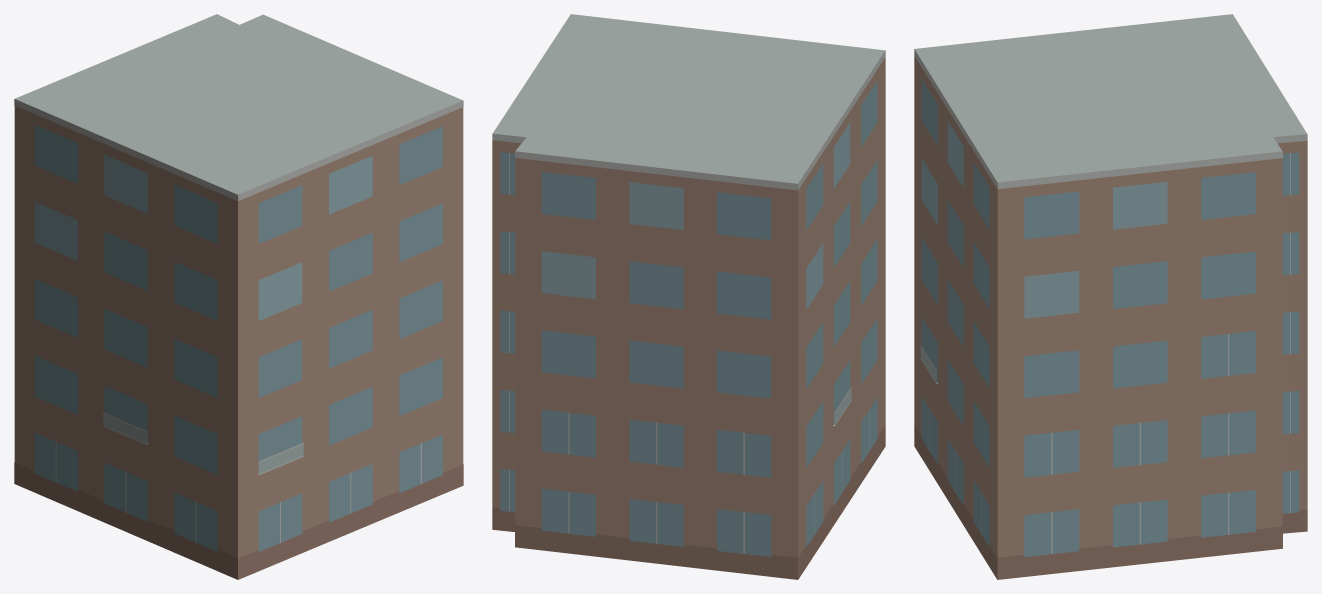
Rendered from survey-upis-32693623.glb.
3 renders of one model, left to right at view 1: azimuth 30°, elevation 25°; view 2: azimuth 150°, elevation 25°; view 3: azimuth 270°, elevation 25°, orthographic. The views are drawn at different scales.
Parts seen in each view (by area): view 1: survey-upis-32693623.tmp; view 2: survey-upis-32693623.tmp; view 3: survey-upis-32693623.tmp.
Boxes of the visible parts, <box> form: survey-upis-32693623.tmp: <box>14,14,463,579</box>; survey-upis-32693623.tmp: <box>492,14,885,579</box>; survey-upis-32693623.tmp: <box>914,14,1307,579</box>.
Bounding box in the file's own units: 13.39 × 14.7 × 13.2.
